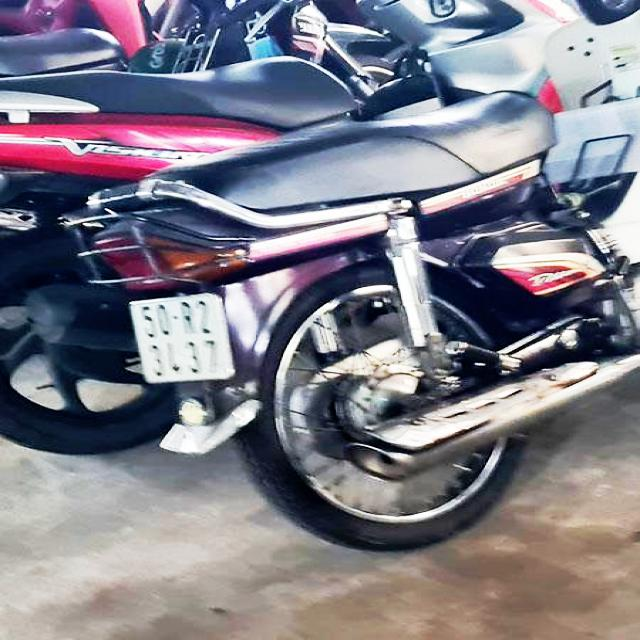license_plate: (131, 293, 239, 384)
